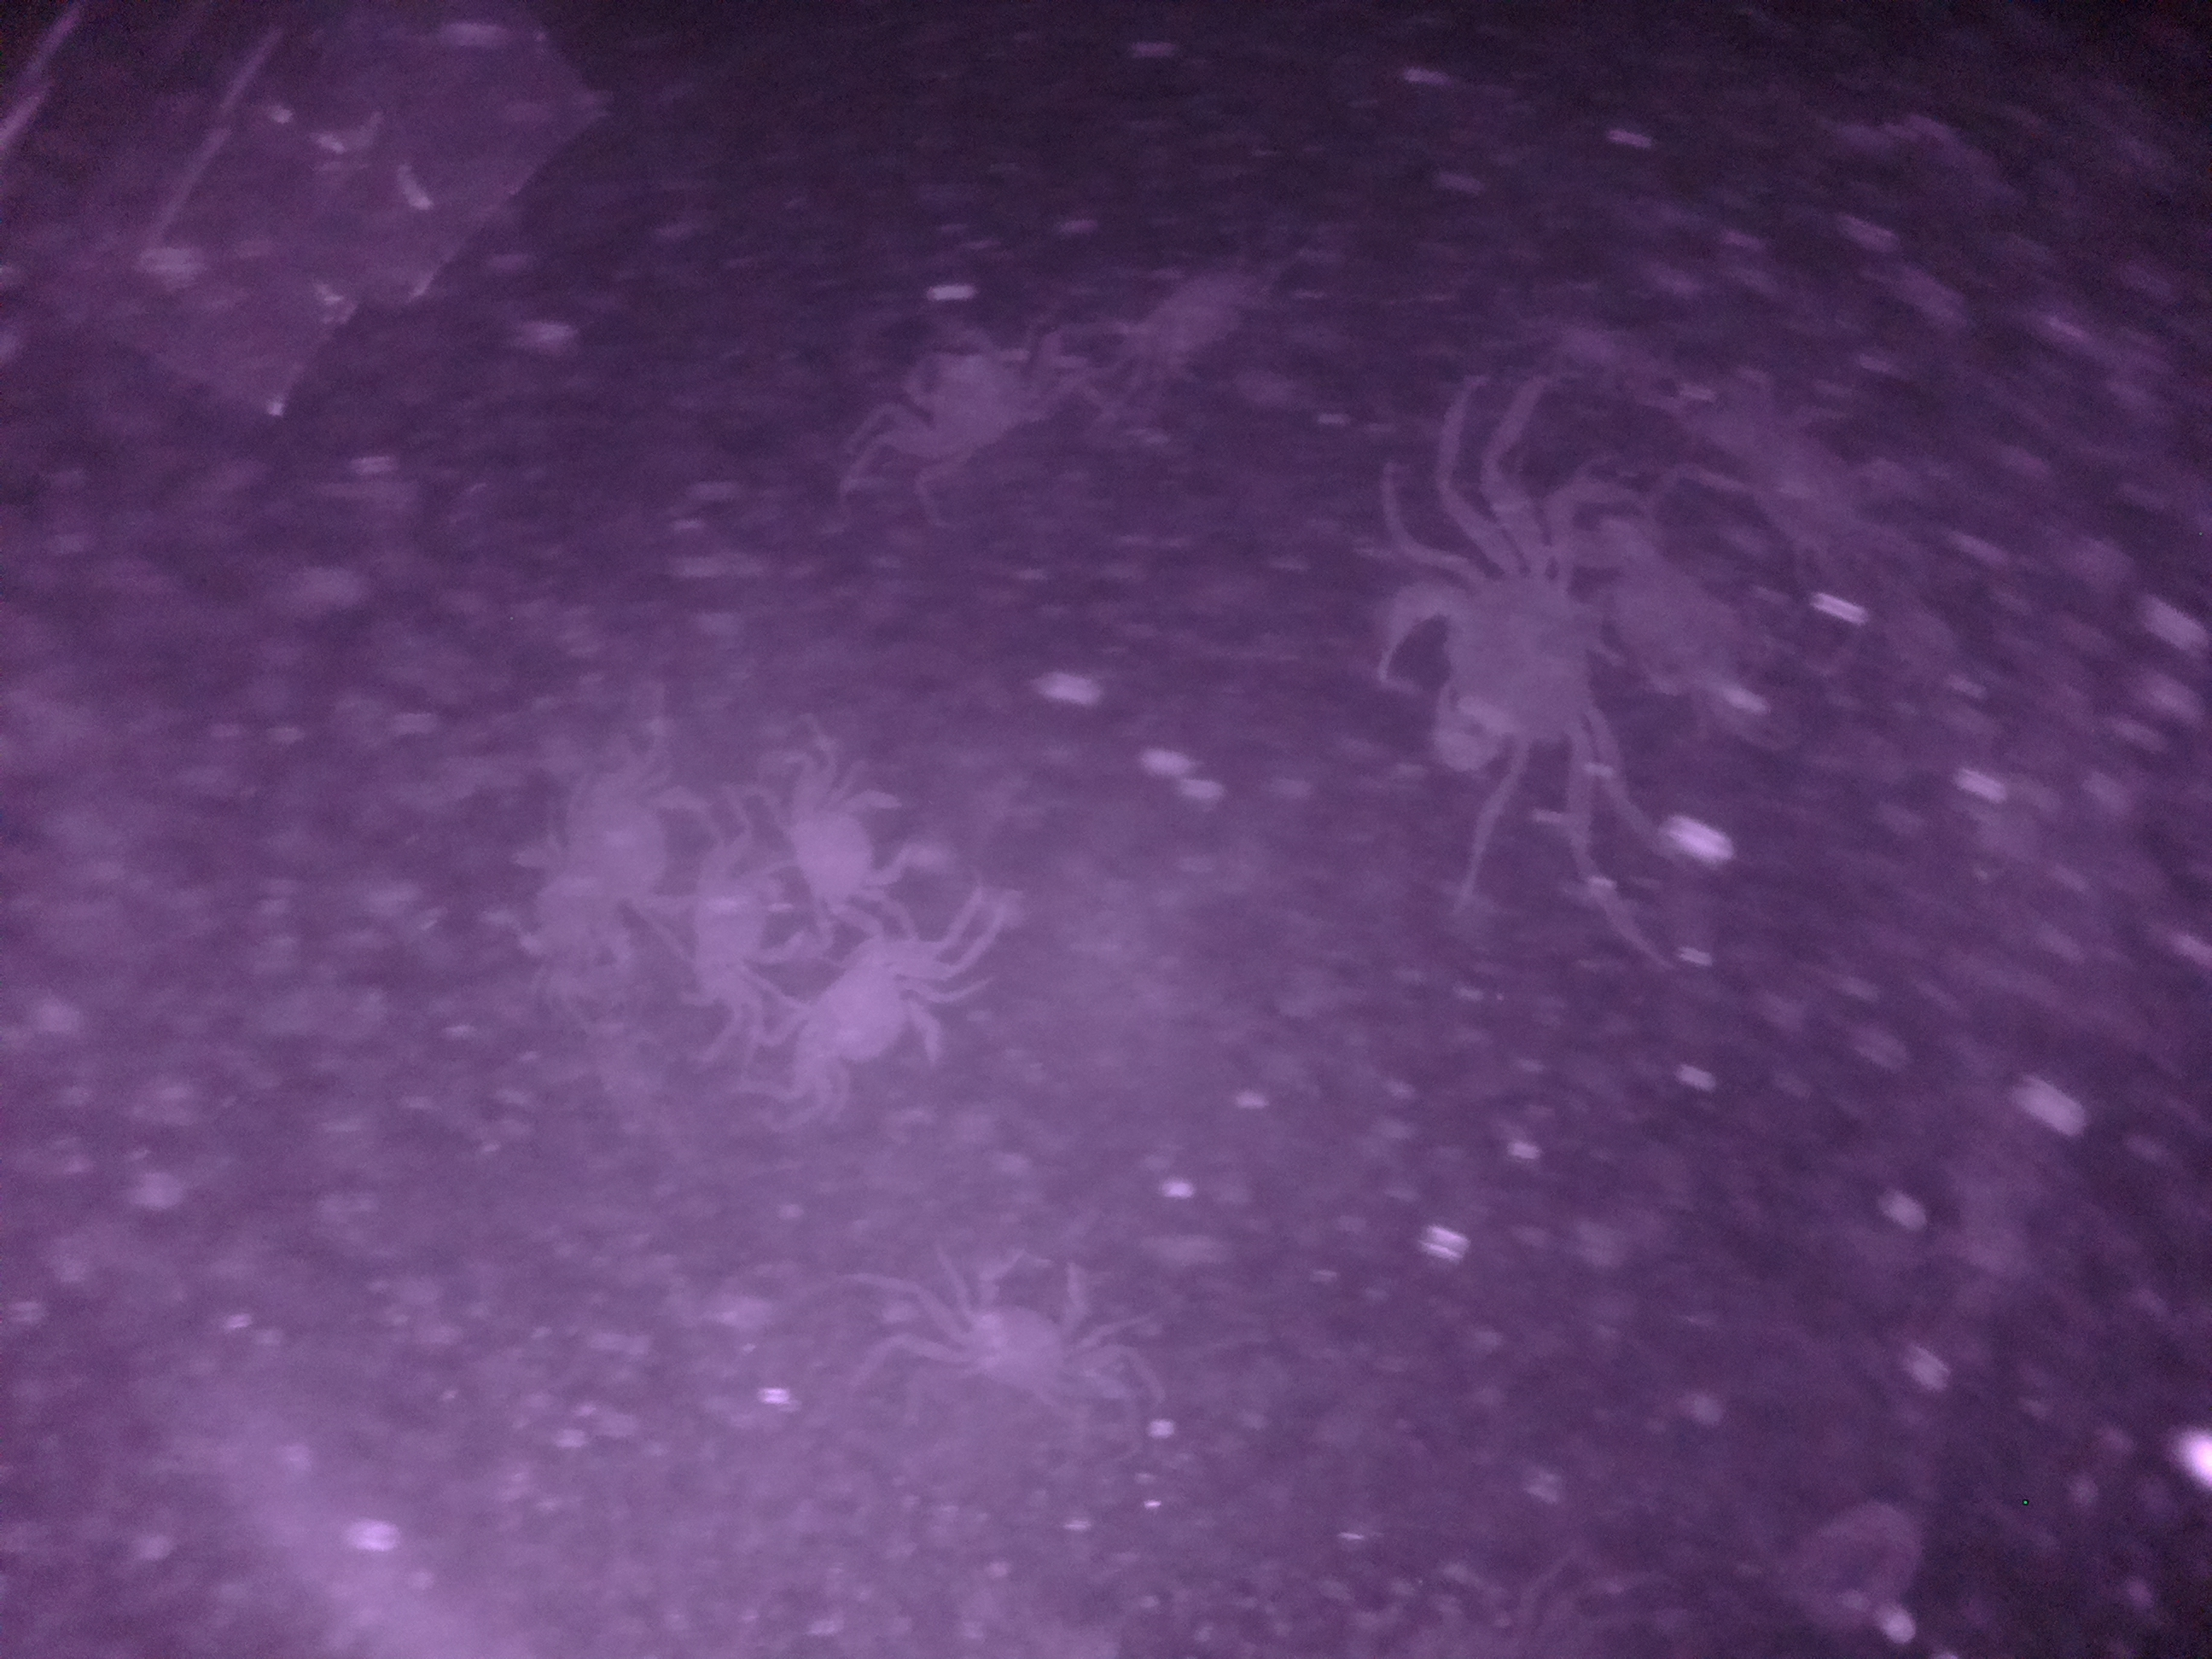Crab: (1367, 532, 1629, 798), (869, 310, 1078, 484), (784, 910, 963, 1110), (949, 1232, 1120, 1415), (758, 760, 932, 922)
